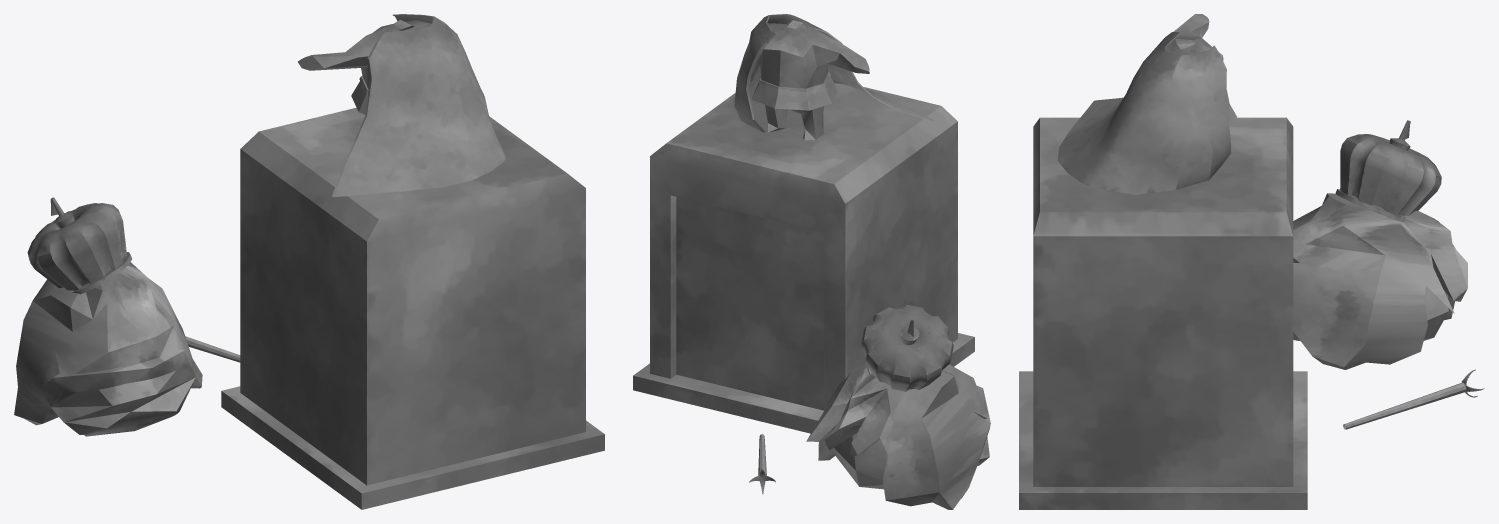
Rendered from Base_Bork.fbx.
3 views of the same model, side by side, from view 1: azimuth 30°, elevation 25°; view 2: azimuth 150°, elevation 25°; view 3: azimuth 270°, elevation 25° (orthographic). The views are drawn at different scales.
Visible parts, largest first — view 1: Base_FBE; view 2: Base_FBE; view 3: Base_FBE.
Part boxes in pixels (x1,y1,x2,y2): Base_FBE: (14, 14, 604, 509); Base_FBE: (633, 14, 990, 509); Base_FBE: (1019, 14, 1484, 509).
Size of the model in its own units: 260 by 245 by 250.
1 material, 1 textured.
